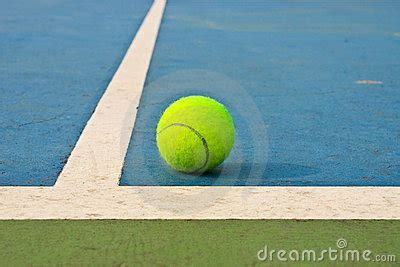tennis_ball: (156, 95, 235, 173)
